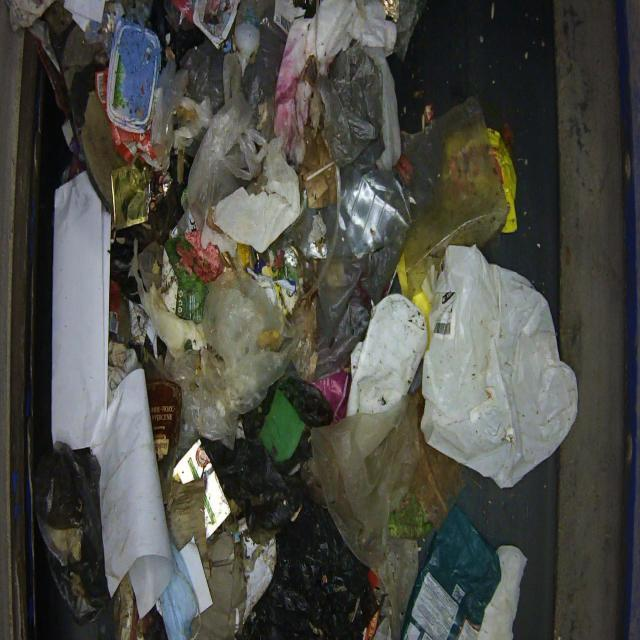other-trash: (22, 0, 576, 638)
